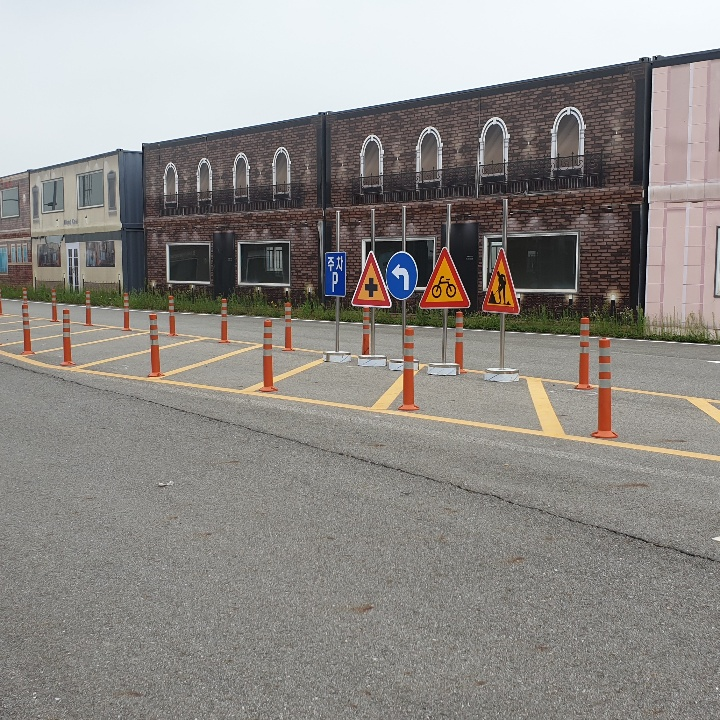bicycle: (418, 247, 468, 309)
const: (487, 265, 518, 308)
inter: (359, 273, 379, 298)
left: (387, 259, 414, 295)
parking: (323, 264, 346, 296)
